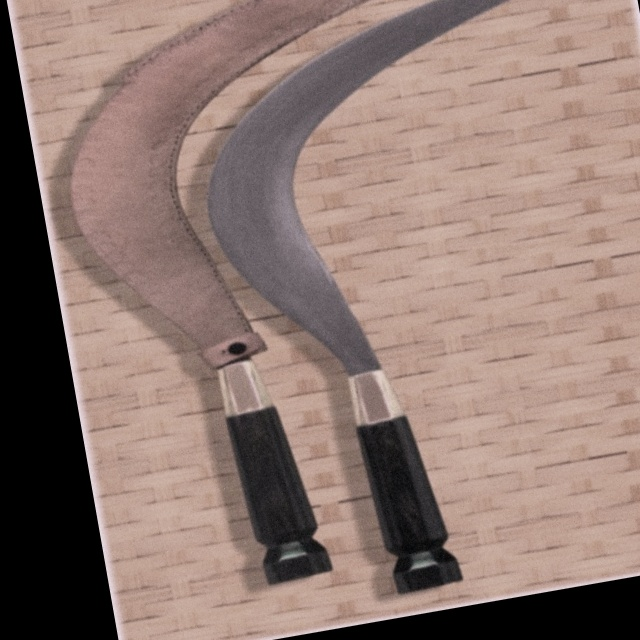Sharp-Object: (161, 0, 640, 630)
